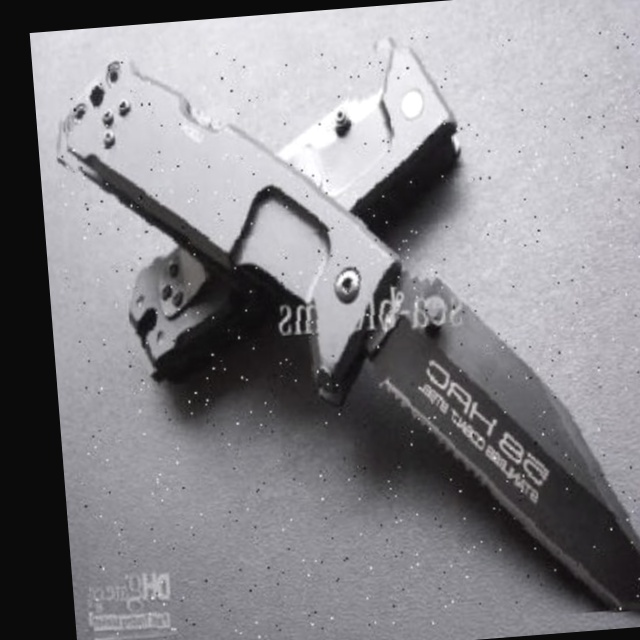Sharp-Object: (50, 20, 640, 640), (111, 35, 470, 389)
